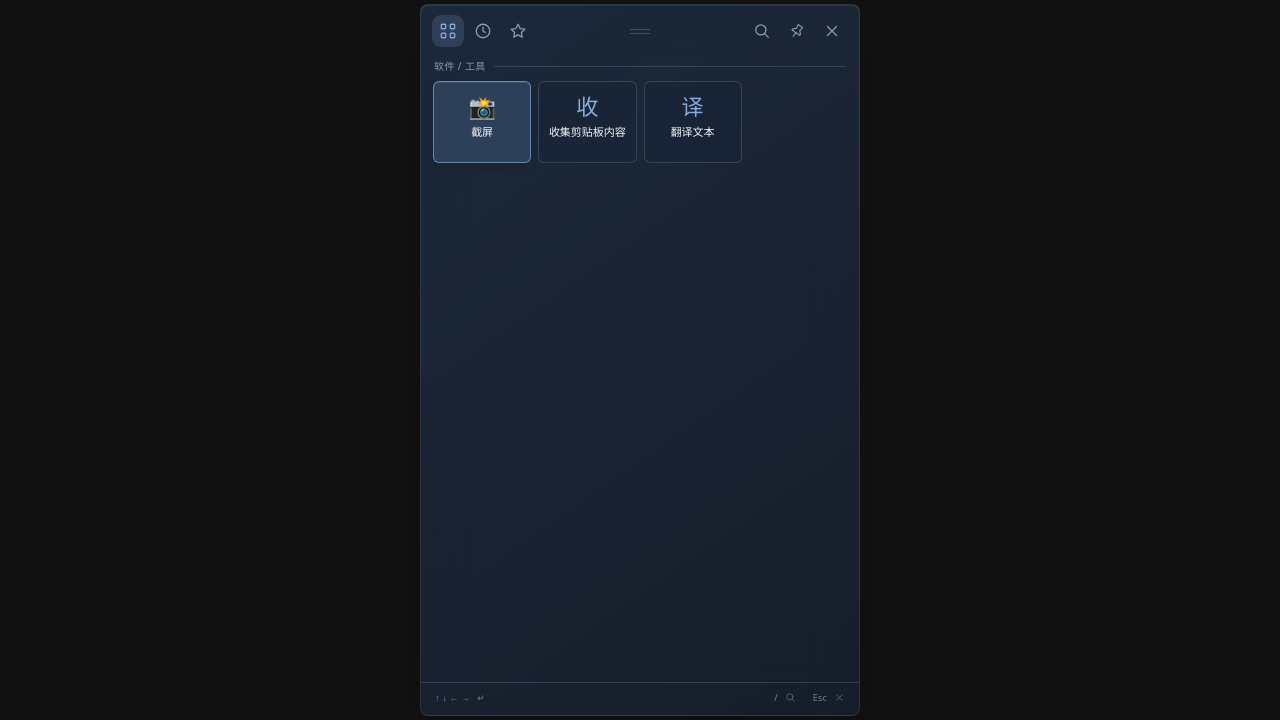
Test: LauncherPage native window interactions › Snow Shot 复制截图后可直接通过 Launcher 收集到 Inbox
The image size is (1280, 720).
Click the option "收 收集剪贴板内容". click: [587, 122]
box: [538,81,637,163]
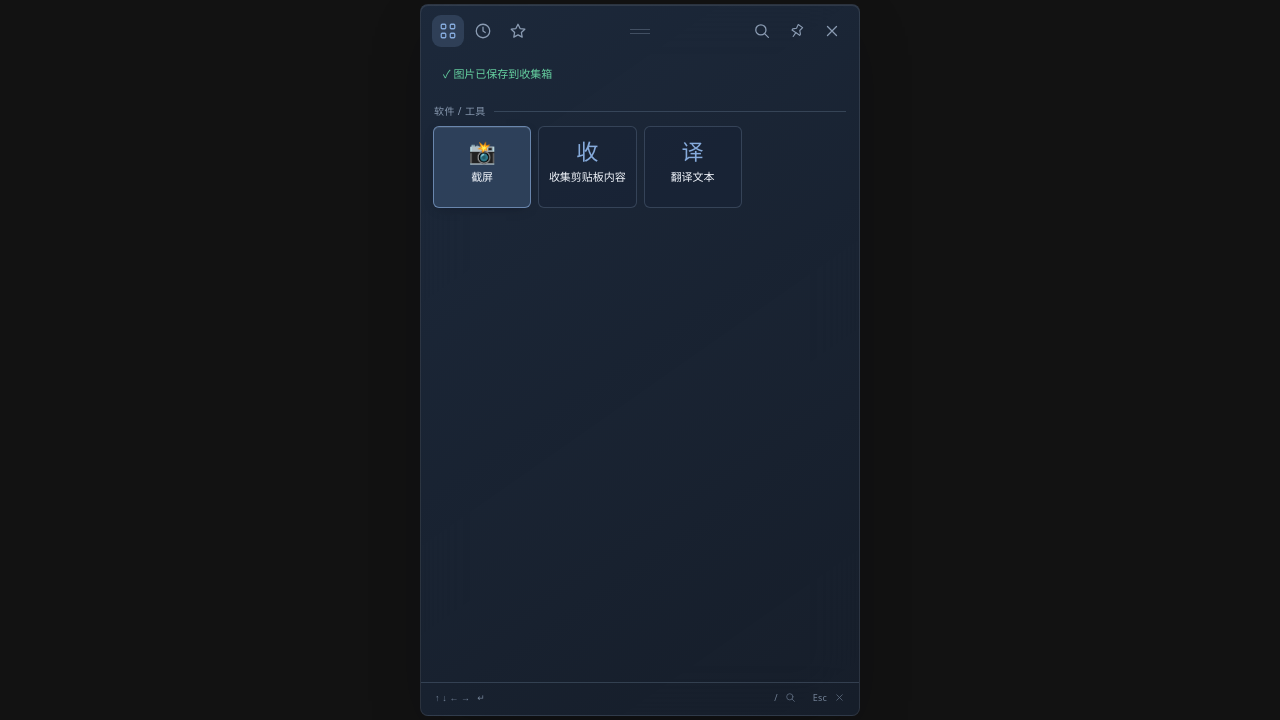
Expected: the message reads "✓ 图片已保存到收集箱", [453,66,552,81]
